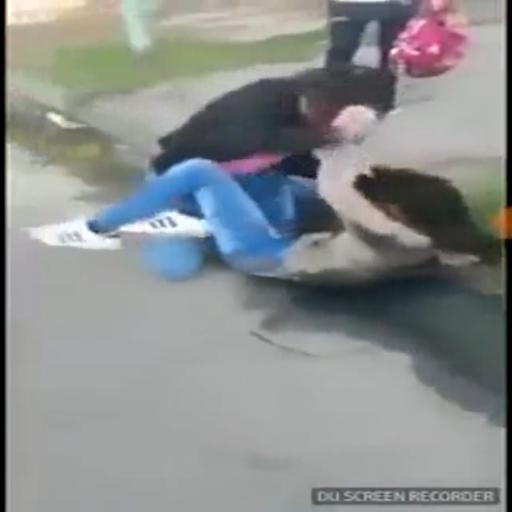violencia: (24, 54, 504, 302)
